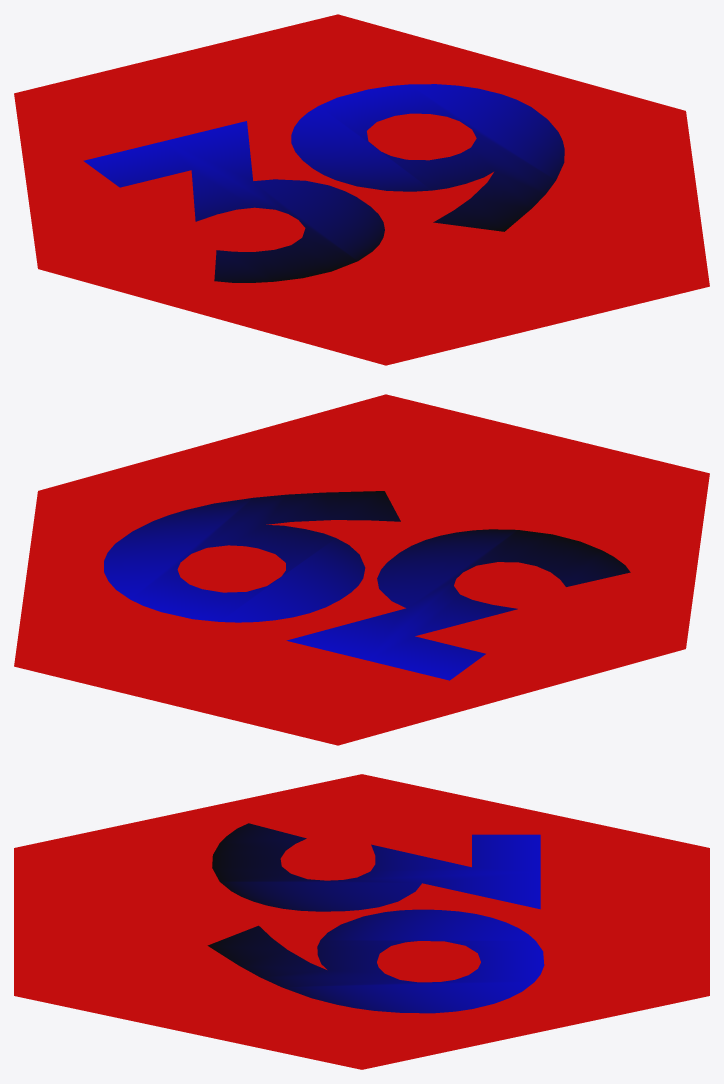
The model's file is SM_Number_39.fbx.
3 renders of one model, top to bottom at view 1: azimuth 30°, elevation 25°; view 2: azimuth 150°, elevation 25°; view 3: azimuth 270°, elevation 25°, orthographic. The views are drawn at different scales.
Visible parts, largest first — view 1: FBX_OUT; view 2: FBX_OUT; view 3: FBX_OUT.
Part boxes in pixels (x1,y1,x2,y2): FBX_OUT: [14, 14, 709, 365]; FBX_OUT: [14, 394, 709, 745]; FBX_OUT: [14, 774, 709, 1069].
Bounding box in the file's own units: 50 × 0.2917 × 49.71.
